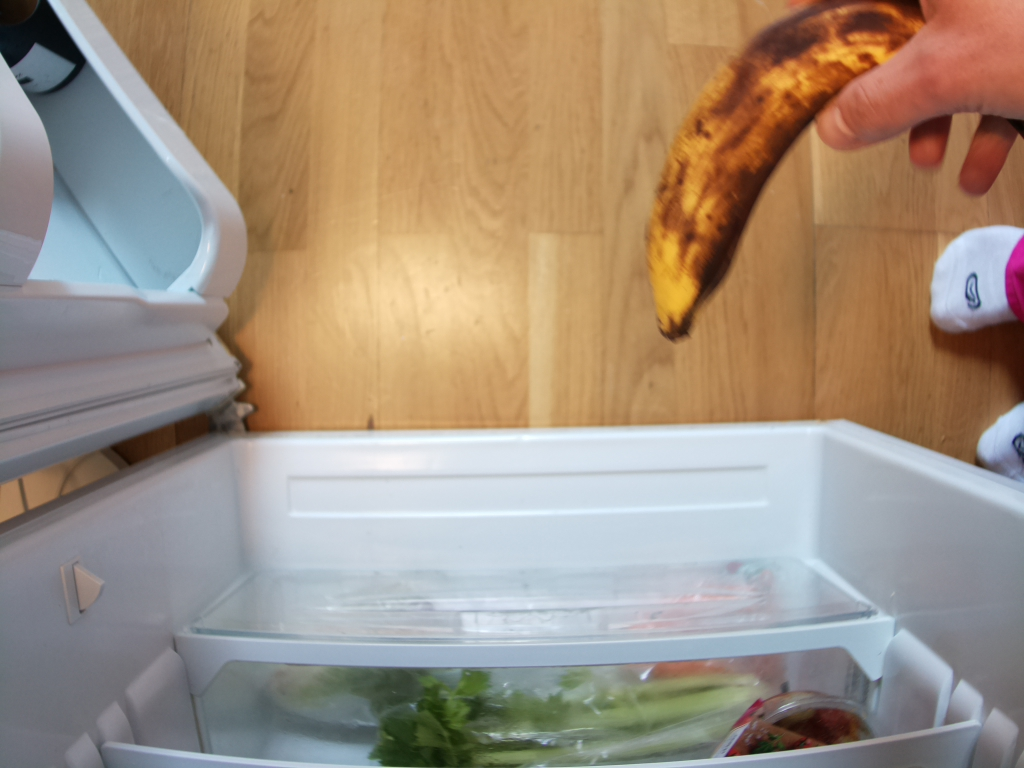banana-overripe: (647, 1, 931, 342)
